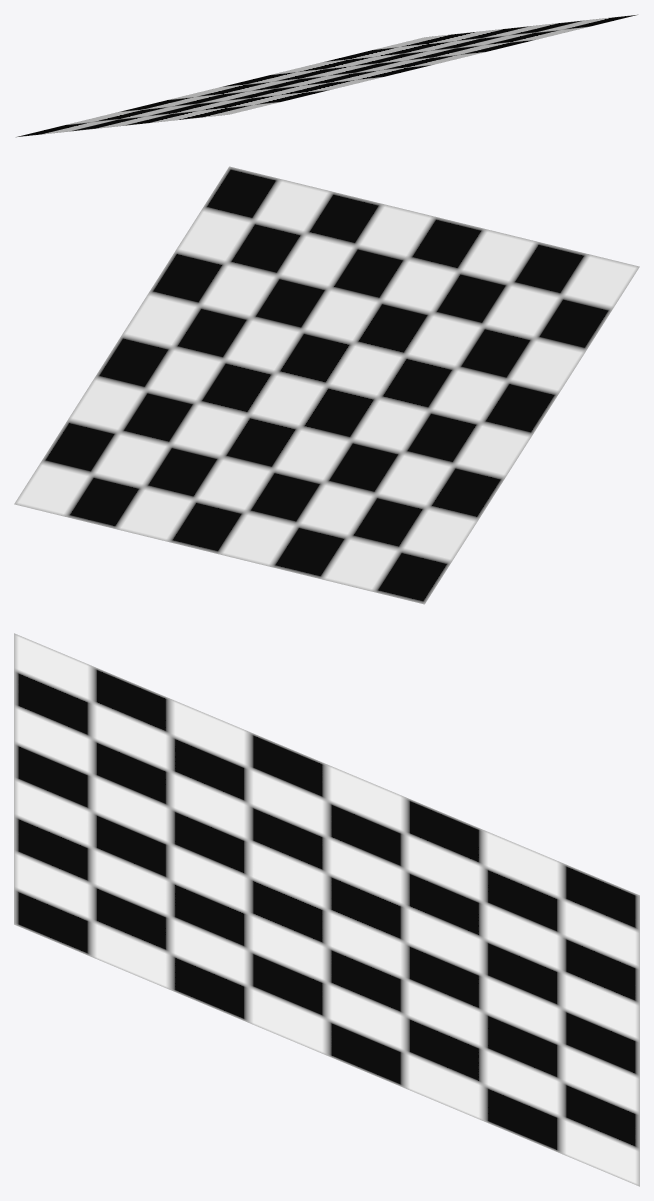
File: initqu9.dae
3 renders of one model, top to bottom at view 1: azimuth 30°, elevation 25°; view 2: azimuth 150°, elevation 25°; view 3: azimuth 270°, elevation 25°, orthographic. The views are drawn at different scales.
Parts seen in each view (by area): view 1: item; view 2: item; view 3: item.
Part boxes in pixels (bbox=[...]): item: bbox=[15, 14, 638, 137]; item: bbox=[14, 166, 639, 604]; item: bbox=[14, 633, 639, 1186].
Size of the model in its own units: 1.62 by 1.47 by 0.6817.
Materials: 1 (1 with a texture image).
